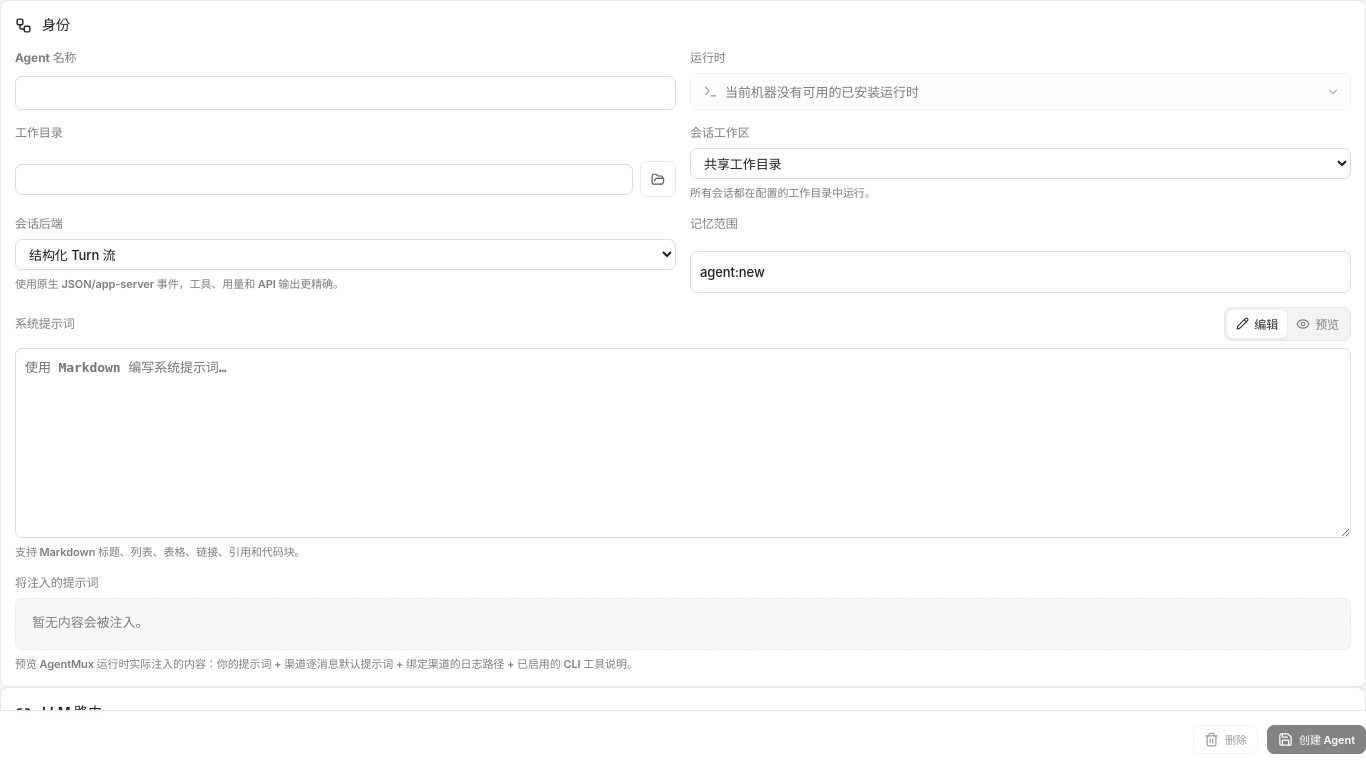
it: opens a browser directory dialog and applies the selected server path
The image size is (1366, 768).
Click the button named "选择目录" at [658, 179], box [640,161,676,197]
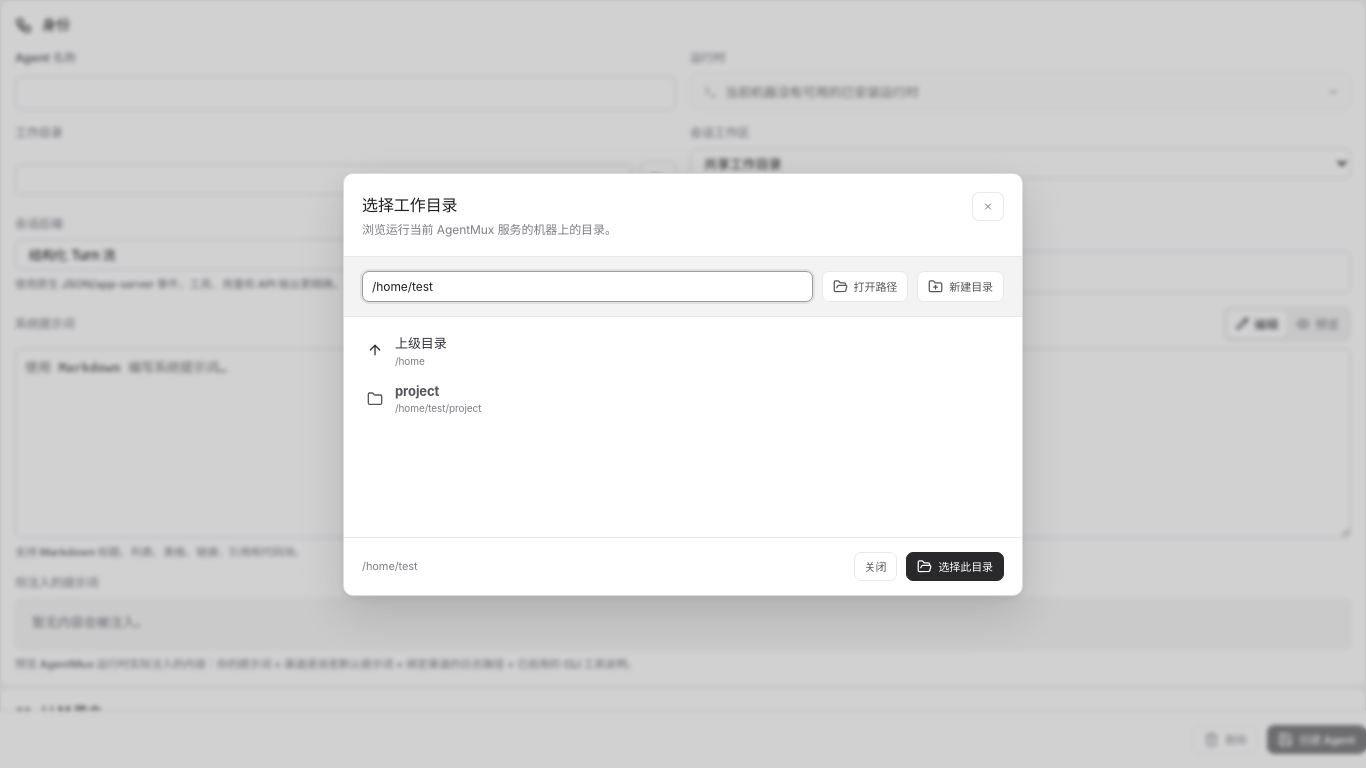
Now the dialog shows "运行当前 AgentMux 服务的机器", box [362,222,617,236]
Click the button "选择此目录" at [955, 566], box [906,552,1004,580]
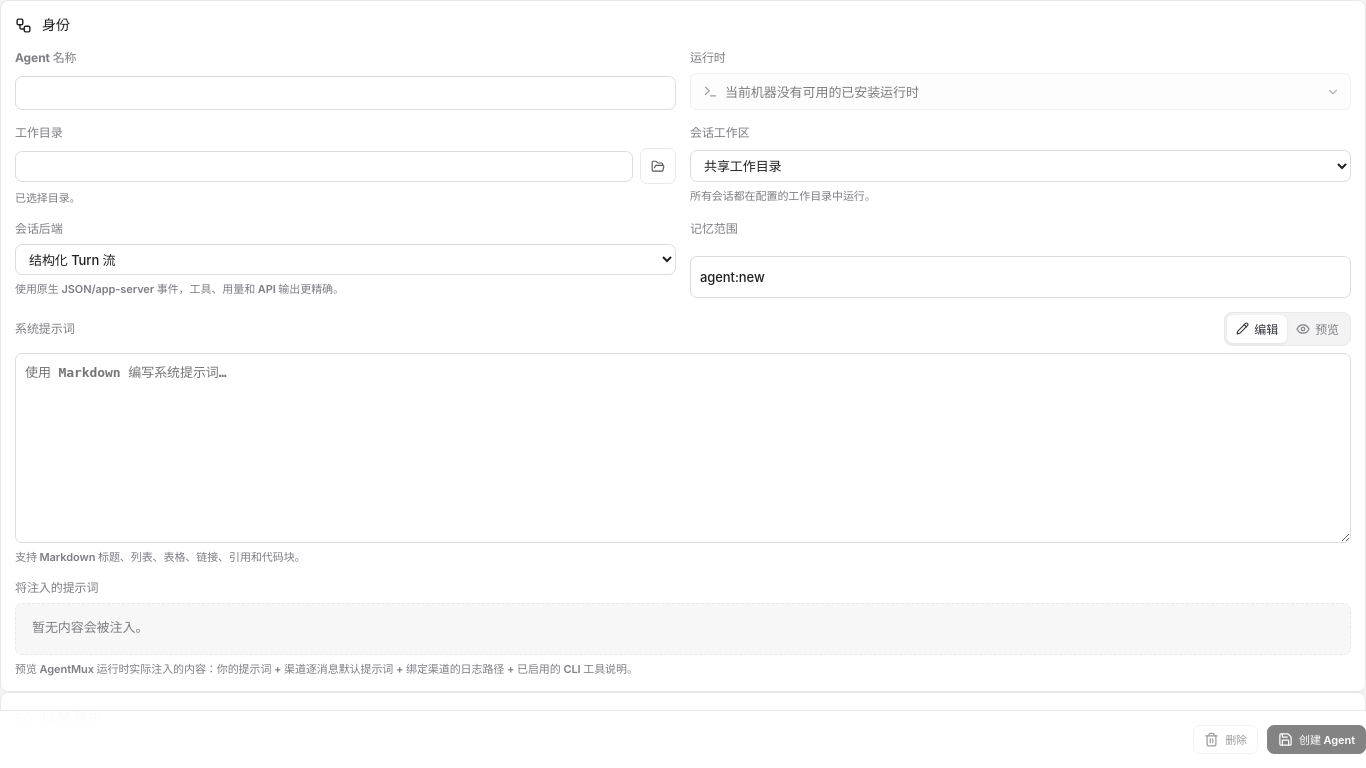
Now the dialog is gone
